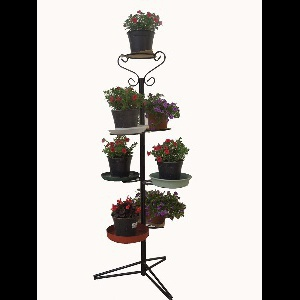flowerpot: (105, 202, 151, 245), (148, 152, 193, 189), (99, 147, 141, 184), (107, 96, 147, 134), (135, 193, 169, 230), (123, 27, 157, 60), (144, 98, 170, 132)
